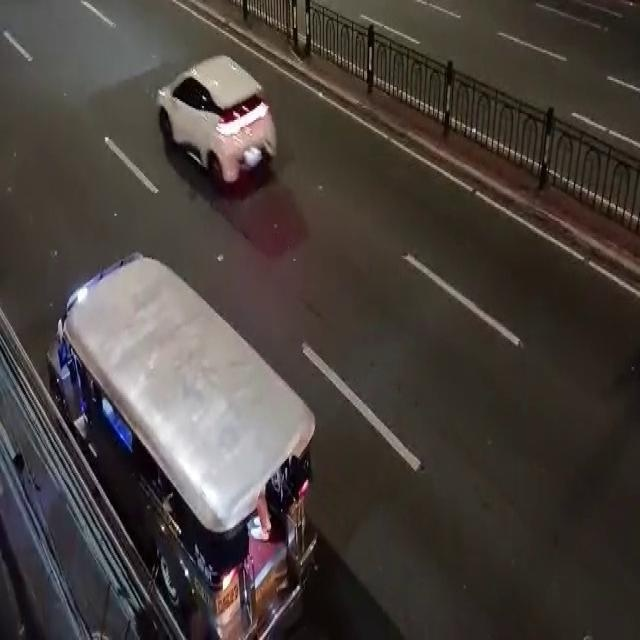car: (159, 54, 282, 193)
jeepney: (56, 250, 304, 630)
